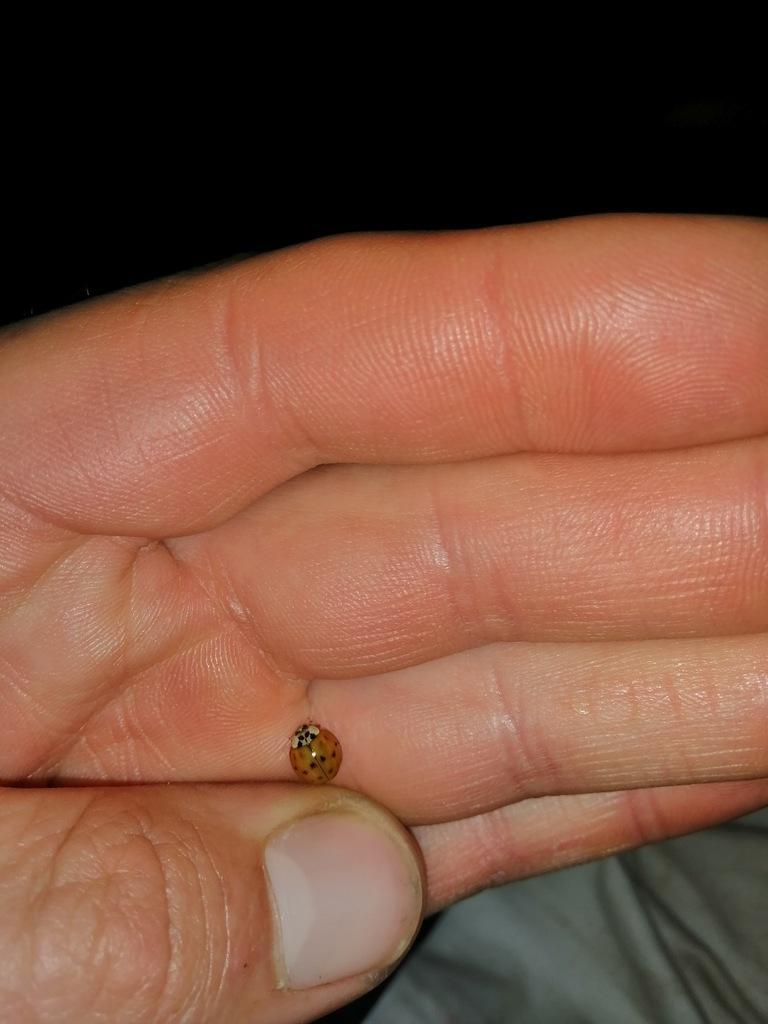ladybug: (289, 722, 347, 788)
